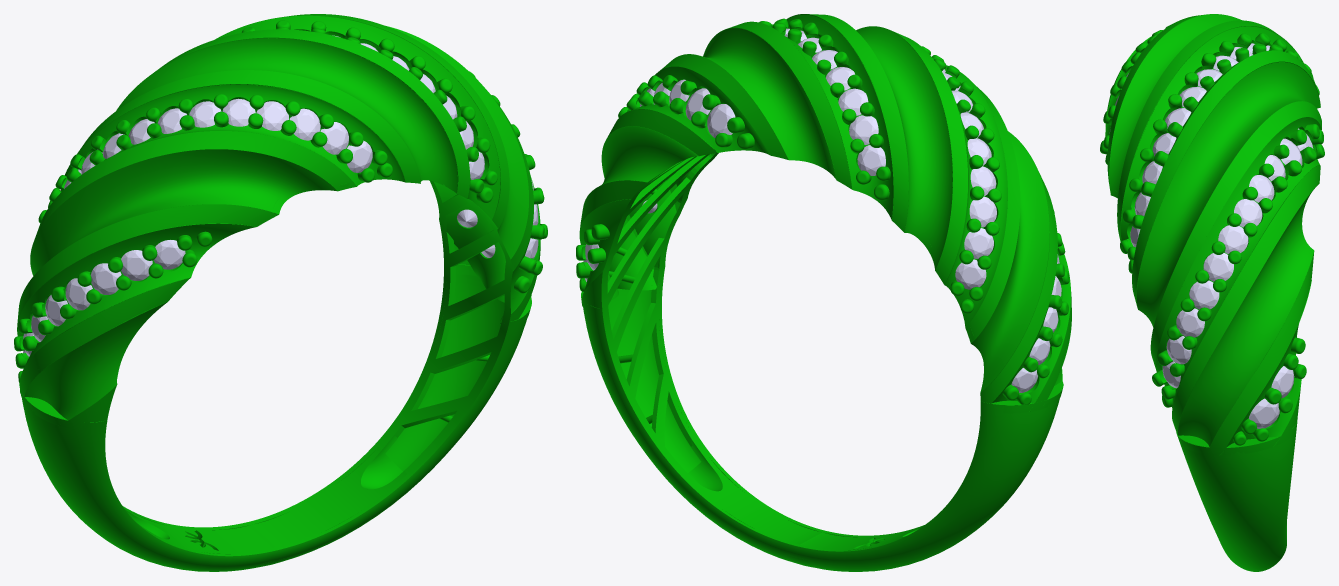
3 renders of one model, left to right at view 1: azimuth 30°, elevation 25°; view 2: azimuth 150°, elevation 25°; view 3: azimuth 270°, elevation 25°, orthographic. The views are drawn at different scales.
Visible parts, largest first — view 1: RNG-2510231.3dm; view 2: RNG-2510231.3dm; view 3: RNG-2510231.3dm.
Part boxes in pixels (x1,y1,x2,y2): RNG-2510231.3dm: (14, 14, 547, 571); RNG-2510231.3dm: (576, 14, 1071, 571); RNG-2510231.3dm: (1100, 14, 1324, 571).
Size of the model in its own units: 2.65 by 2.78 by 1.11.
